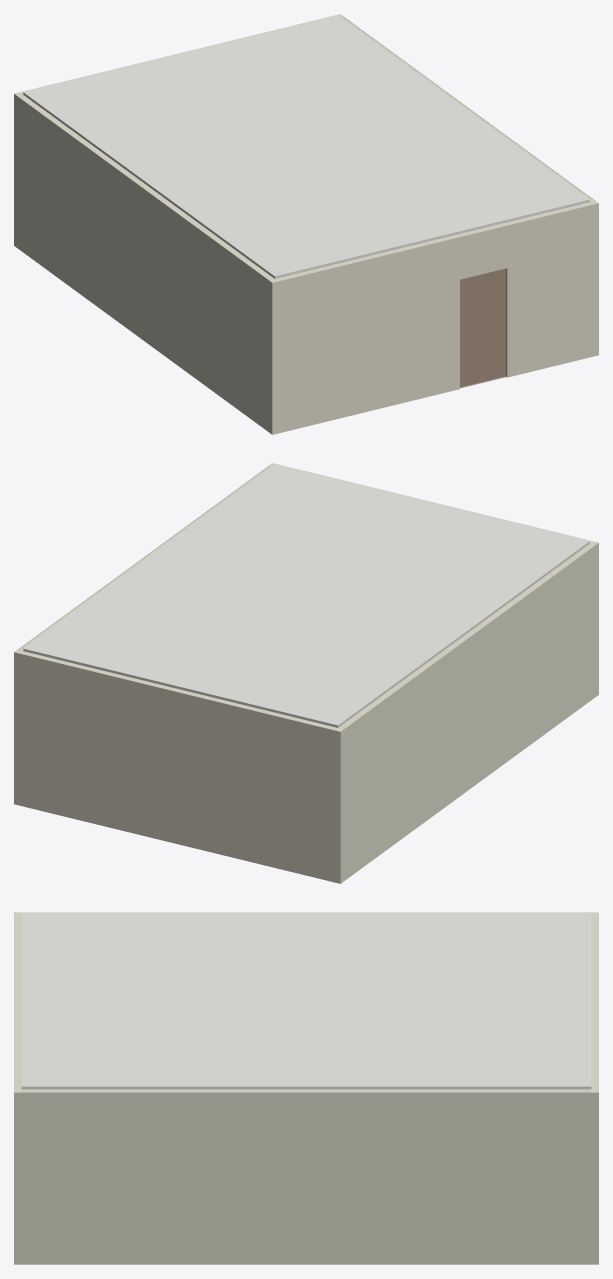
File: lab.glb
3 renders of one model, top to bottom at view 1: azimuth 30°, elevation 25°; view 2: azimuth 150°, elevation 25°; view 3: azimuth 270°, elevation 25°, orthographic. The views are drawn at different scales.
Parts seen in each view (by area): view 1: m_lab_wall, m_lab_ceiling, m_lab_door; view 2: m_lab_wall, m_lab_ceiling; view 3: m_lab_wall, m_lab_ceiling, m_lab_grid.
Part boxes in pixels (x1,y1,x2,y2): m_lab_wall: (14,14,598,434); m_lab_ceiling: (23,15,589,278); m_lab_door: (460,268,505,387); m_lab_wall: (14,463,598,883); m_lab_ceiling: (23,464,589,727); m_lab_wall: (14,912,598,1264); m_lab_ceiling: (21,912,591,1089); m_lab_grid: (22,1091,590,1092).
Size of the model in its own units: 6.74 by 3.1 by 9.24.
